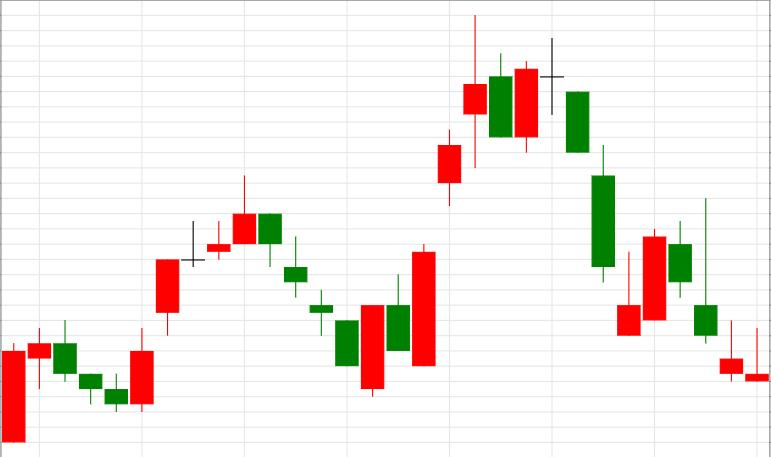bullish_engulfing_rise: (259, 213, 384, 397)
inverse_hammer_rise: (540, 37, 641, 336)
